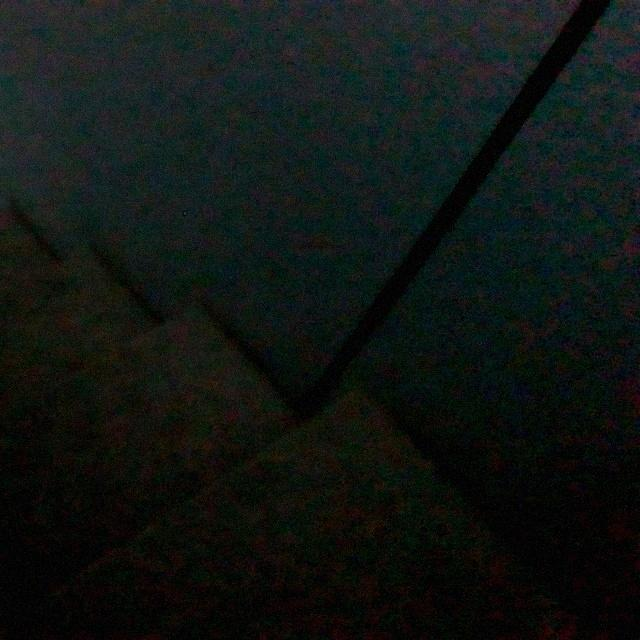stair: (0, 174, 274, 574)
